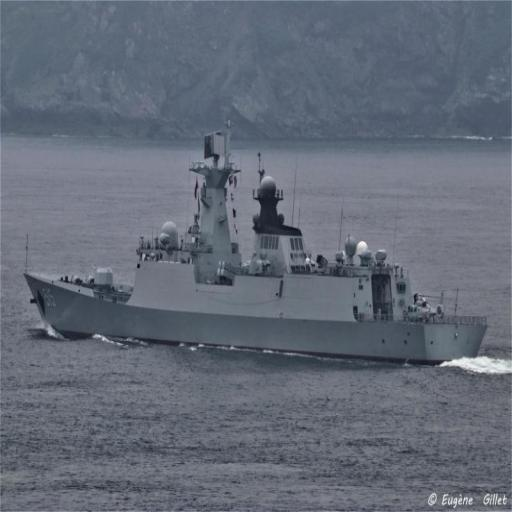Fragata: (25, 116, 490, 365)
